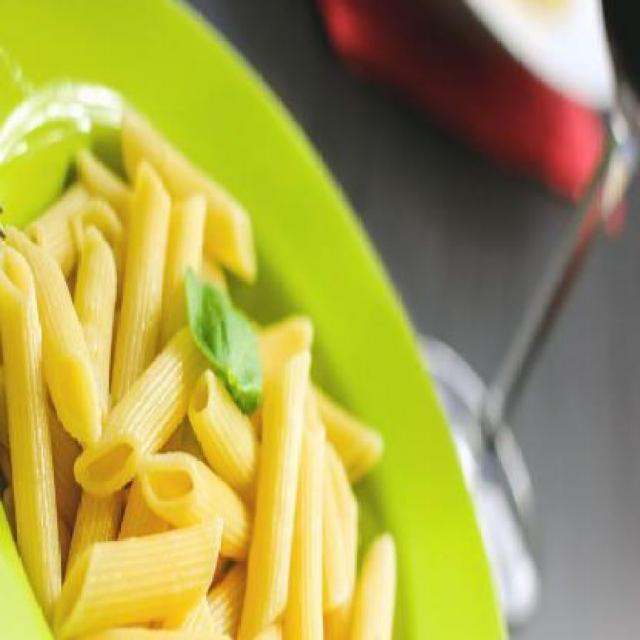Oil pasta: (4, 58, 447, 640)
